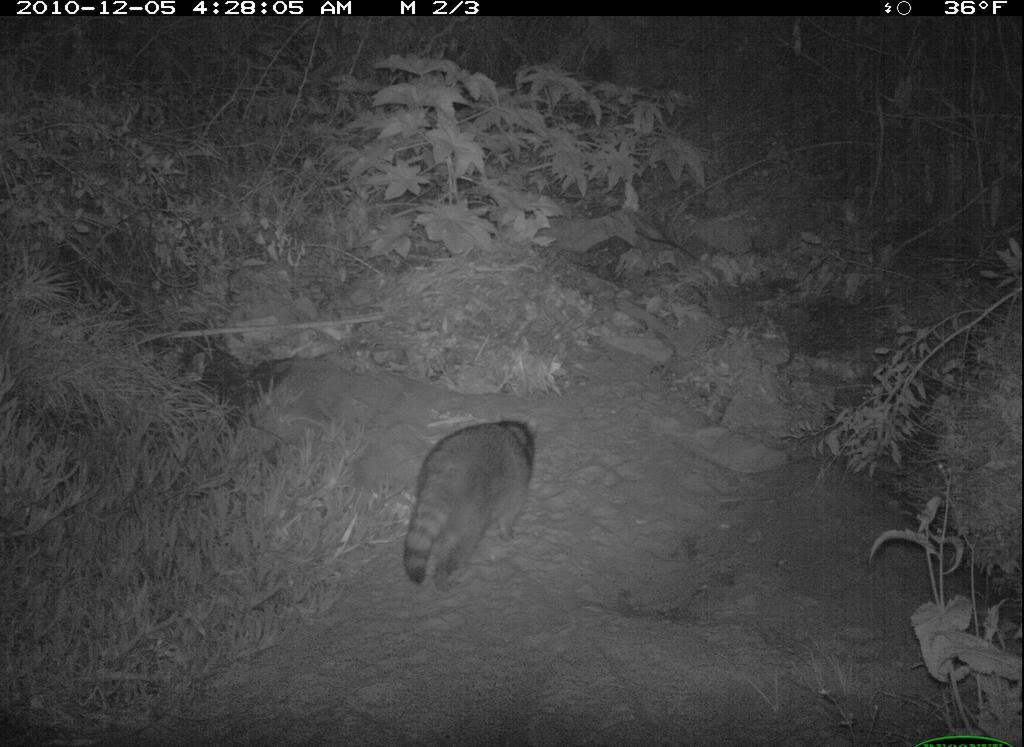raccoon: (401, 396, 551, 601)
